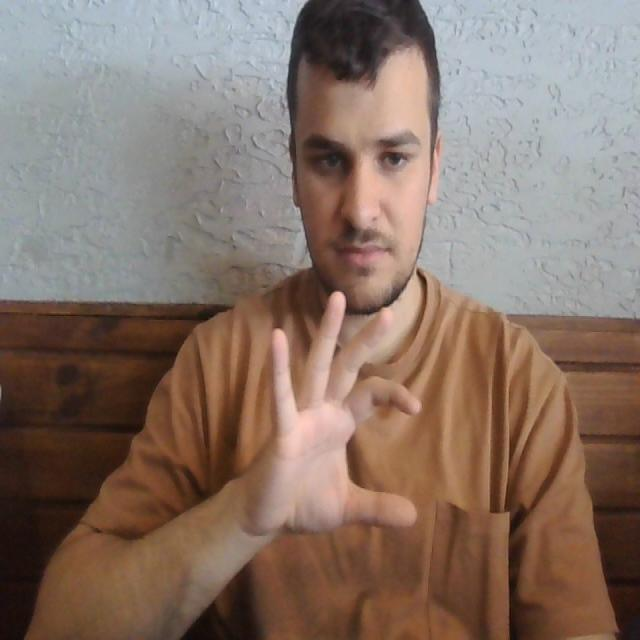Tuvalet: (262, 267, 427, 552)
